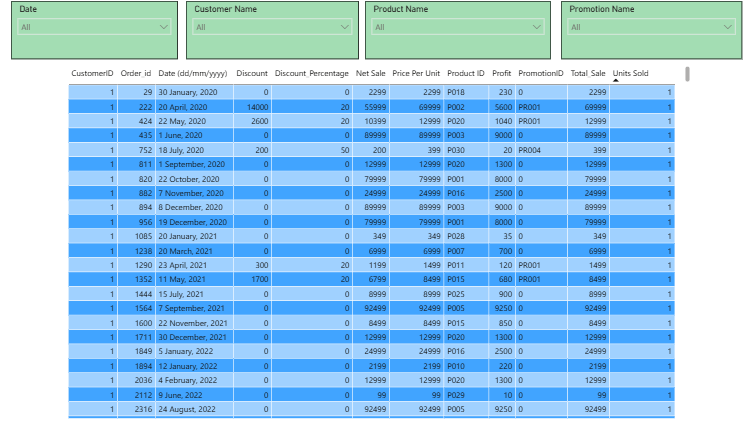

Layout of this report page (visuals, bound fields, positions):
{"tool":"powerbi","page":{"name":"Requirement 7","canvas":[1280,720],"ordinal":4},"visuals":[{"type":"tableEx","fields":{"Values":["Fact.CustomerID","Fact.Order_id","Fact.Date (dd/mm/yyyy)","Fact.Discount","Fact.Discount_Percentage","Fact.Net Sale","Fact.Price Per Unit","Fact.Product ID","Fact.Profit","Fact.PromotionID","Fact.Total_Sale","Fact.Units Sold"]},"box":[140,110,1046.7,596.7],"z":0},{"type":"slicer","fields":{"Values":["Data Table 1.Date"]},"box":[50,6.7,278.3,96.7],"z":1000},{"type":"slicer","fields":{"Values":["Dim Customers.Customer Name"]},"box":[341.7,6.7,288.3,96.7],"z":2000},{"type":"slicer","fields":{"Values":["Dim Product.Product Name"]},"box":[640,6.7,310,96.7],"z":3000},{"type":"slicer","fields":{"Values":["Dim Promotion.Promotion Name"]},"box":[966.7,6.7,301.7,96.7],"z":4000}]}

Visuals, with their boxes in screenshot pixels (x1, y1, x2, y2), scaled from the page's 1280x720 canvas onto the 745x425 screenshot:
tableEx - Fact.CustomerID x Fact.Order_id: locate(81, 65, 691, 417)
slicer - Data Table 1.Date: locate(29, 4, 191, 61)
slicer - Dim Customers.Customer Name: locate(199, 4, 367, 61)
slicer - Dim Product.Product Name: locate(372, 4, 553, 61)
slicer - Dim Promotion.Promotion Name: locate(563, 4, 738, 61)
